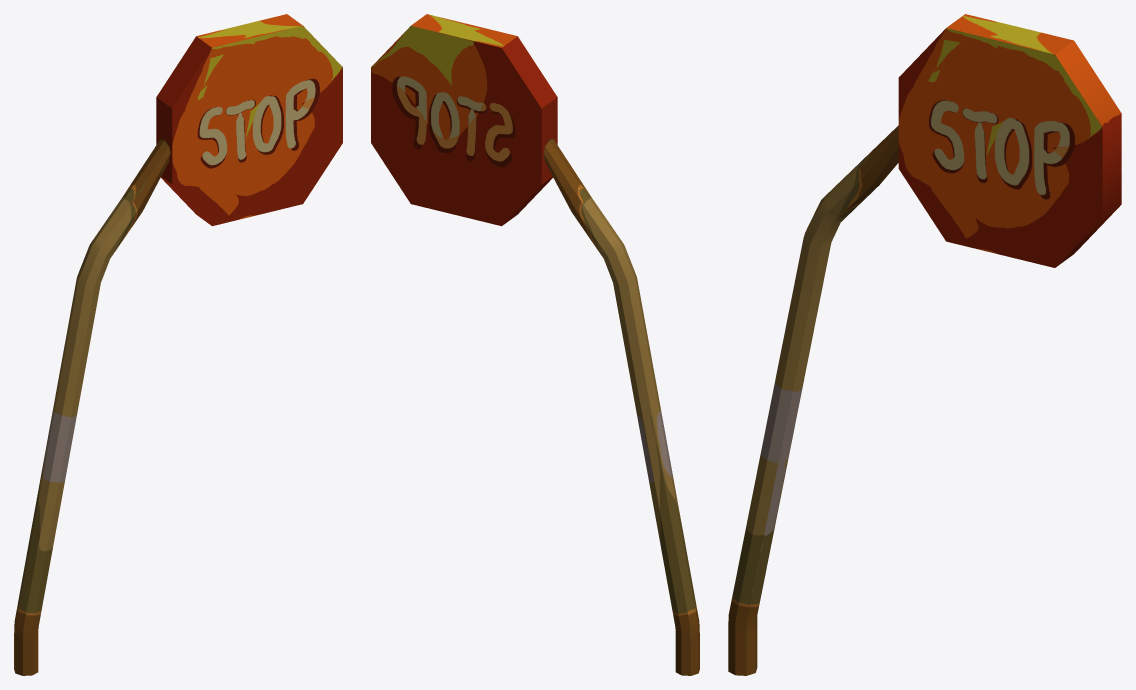
File: stopSignFBX.fbx
The picture shows the model from 3 angles, left to right: view 1: azimuth 30°, elevation 25°; view 2: azimuth 150°, elevation 25°; view 3: azimuth 330°, elevation 25°; orthographic projection. The views are drawn at different scales.
Visible parts, largest first — view 1: polySurface1; view 2: polySurface1; view 3: polySurface1.
Boxes of the visible parts, bbox=[...] form: polySurface1: bbox=[14, 14, 342, 675]; polySurface1: bbox=[371, 14, 699, 675]; polySurface1: bbox=[728, 14, 1121, 675].
Size of the model in its own units: 2.46 by 4.31 by 0.2131.
